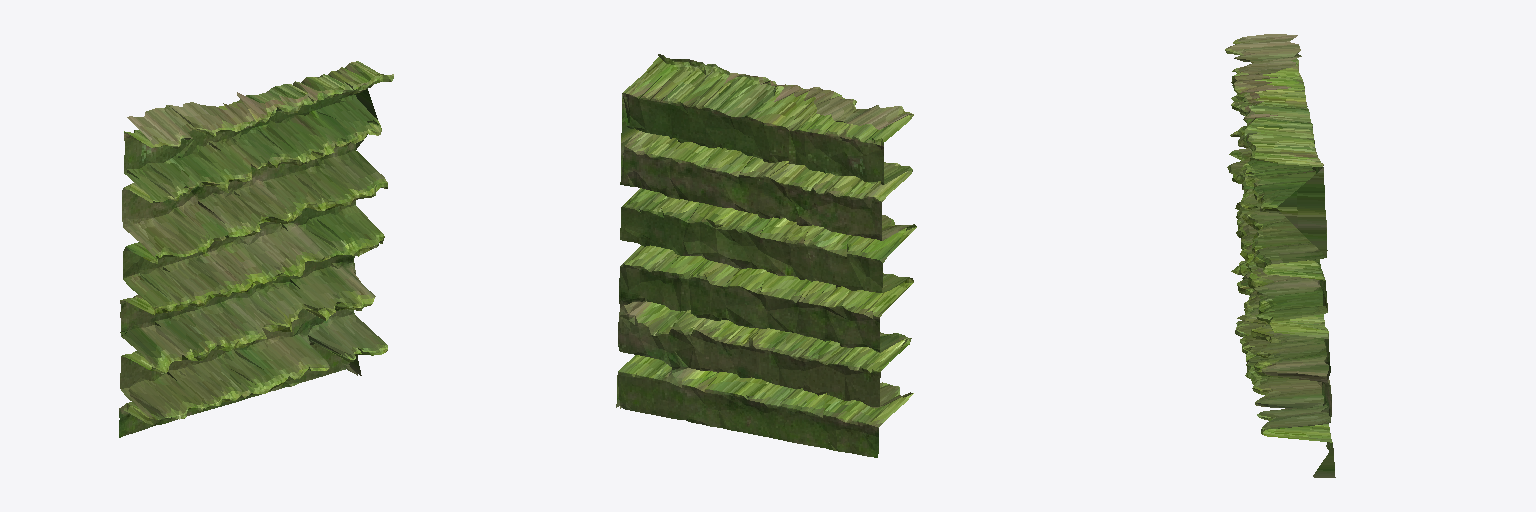
3 views of the same model, side by side, from view 1: azimuth 30°, elevation 25°; view 2: azimuth 150°, elevation 25°; view 3: azimuth 270°, elevation 25° (orthographic).
Visible parts, largest first — view 1: grp1; view 2: grp1; view 3: grp1.
Boxes of the visible parts, x1,y1,x2,y2 form: grp1: [119, 61, 393, 437]; grp1: [616, 54, 916, 457]; grp1: [1225, 34, 1335, 477].
Bounding box in the file's own units: 8 × 10 × 3.11.
Materials: 1 (1 with a texture image).